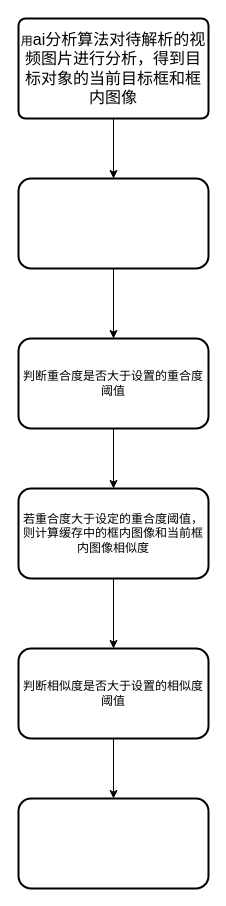
The diagram is 226 pixels wide and 906 high, and some of its shapes have lost their labels. The centre of each missing label's shape, as x and y in pixels:
"若相似度大于设定的相似度阈值，则抑制告警" belongs at point (113, 843).
"计算缓存中的目标框和当前目标框的重合度" belongs at point (113, 223).
